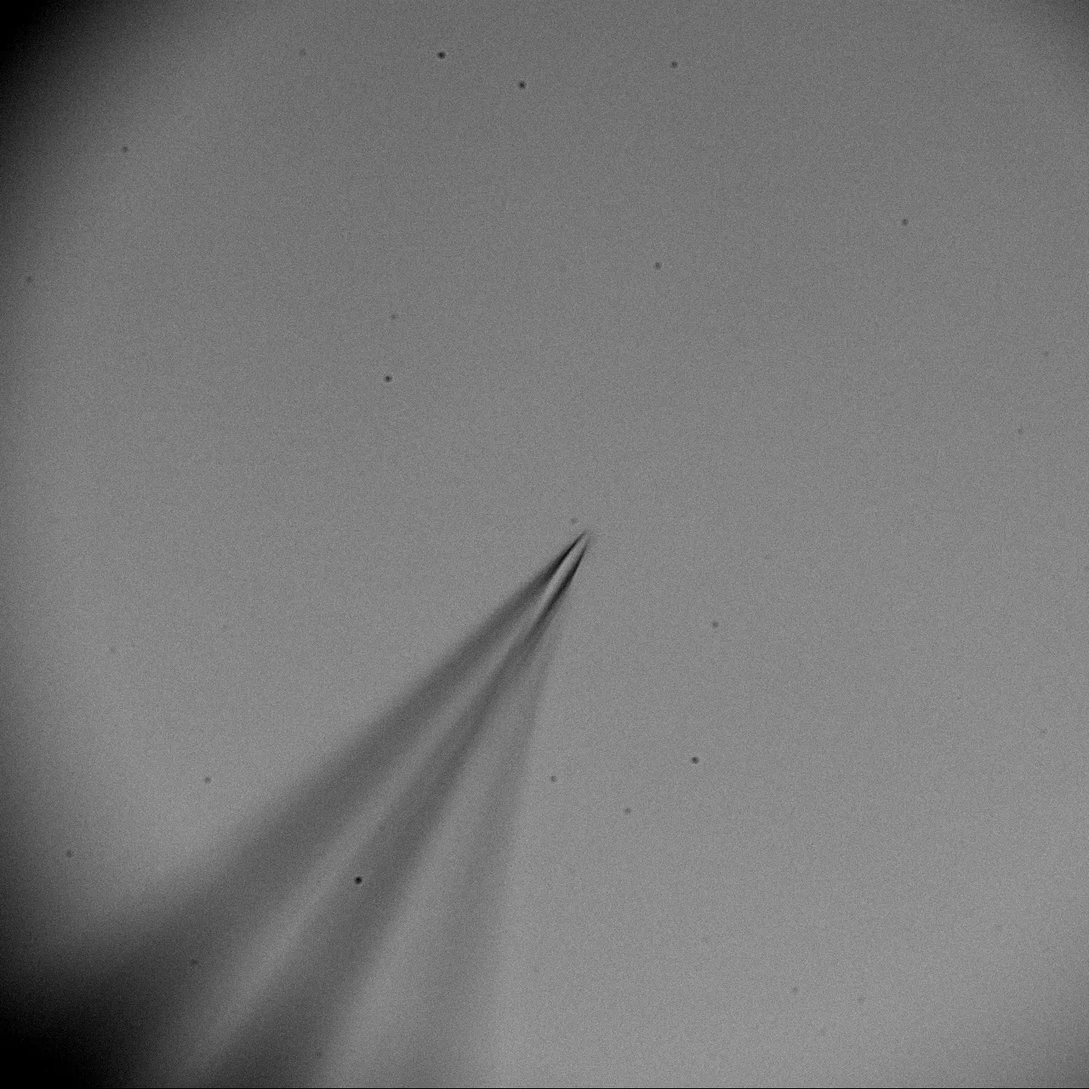tip: (513, 528, 614, 628)
